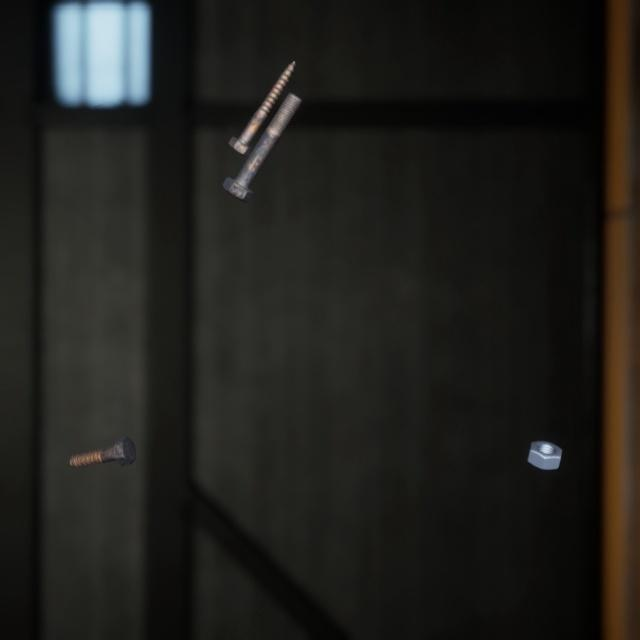bolt: (217, 74, 306, 192), (223, 43, 300, 148), (64, 411, 140, 451)
nut: (523, 415, 566, 453)
